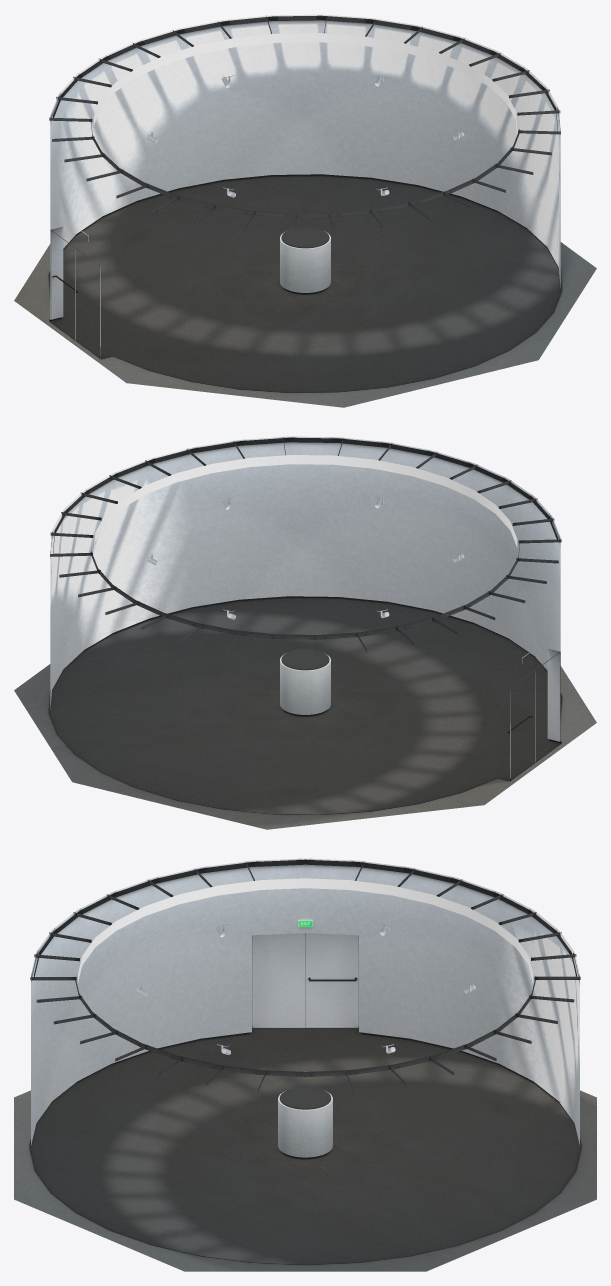
File: theroom.glb
3 renders of one model, top to bottom at view 1: azimuth 30°, elevation 25°; view 2: azimuth 150°, elevation 25°; view 3: azimuth 270°, elevation 25°, orthographic. The views are drawn at different scales.
Parts seen in each view (by area): view 1: RoomBaked_Baked_0; view 2: RoomBaked_Baked_0; view 3: RoomBaked_Baked_0.
Boxes of the visible parts, box(x1,y1,x2,y2) form: RoomBaked_Baked_0: box(14, 14, 596, 407); RoomBaked_Baked_0: box(14, 436, 596, 829); RoomBaked_Baked_0: box(14, 858, 596, 1271).
Bounding box in the file's own units: 10.62 × 3.5 × 10.62.
Materials: 1 (1 with a texture image).
